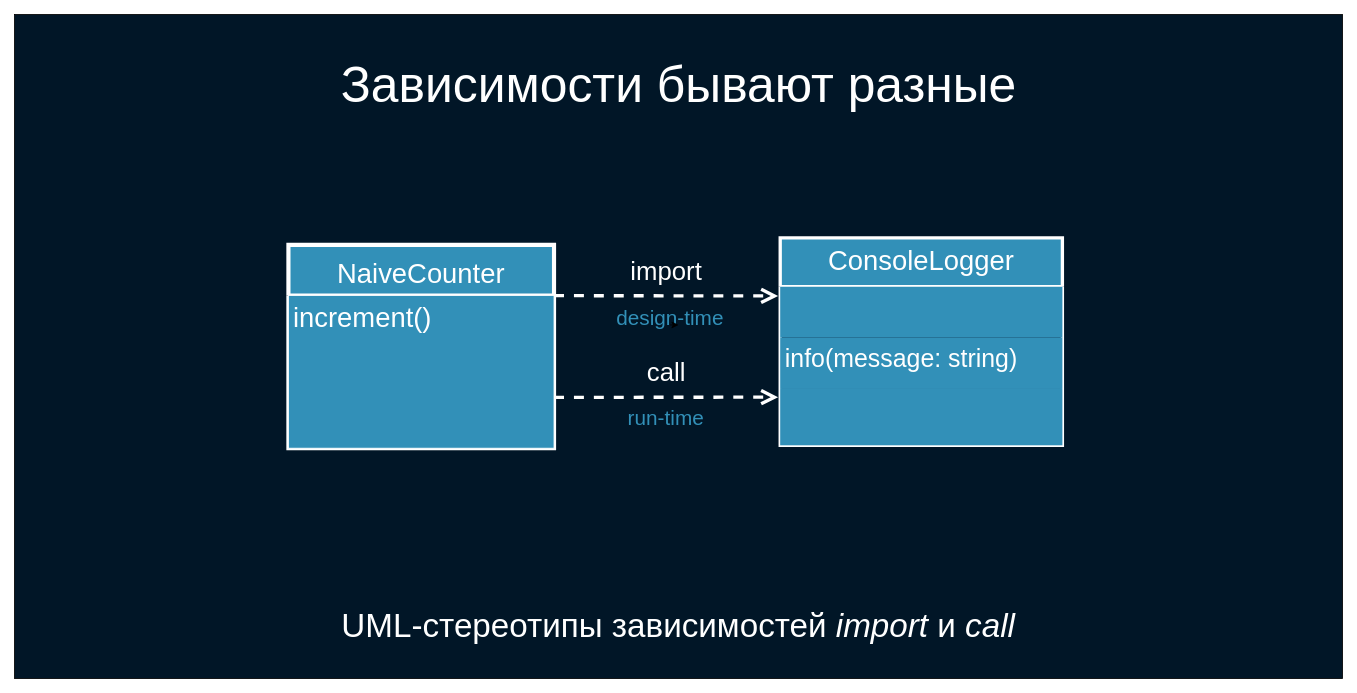
This 1357x693 diagram has some shape labels left out. Here are the shapes that lost their labels. From the top down, the centre of each, then its label:
At (x=921, y=311): "trace(message: string)".
At (x=921, y=416): "error(message: string)".
